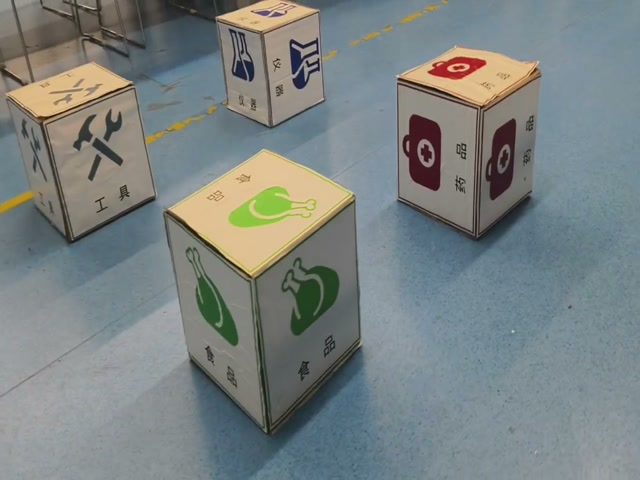Cube_food: (165, 144, 357, 285)
Cube_ins: (217, 0, 319, 34)
Cube_medicine: (390, 42, 543, 112)
Cube_tool: (5, 61, 136, 127)
